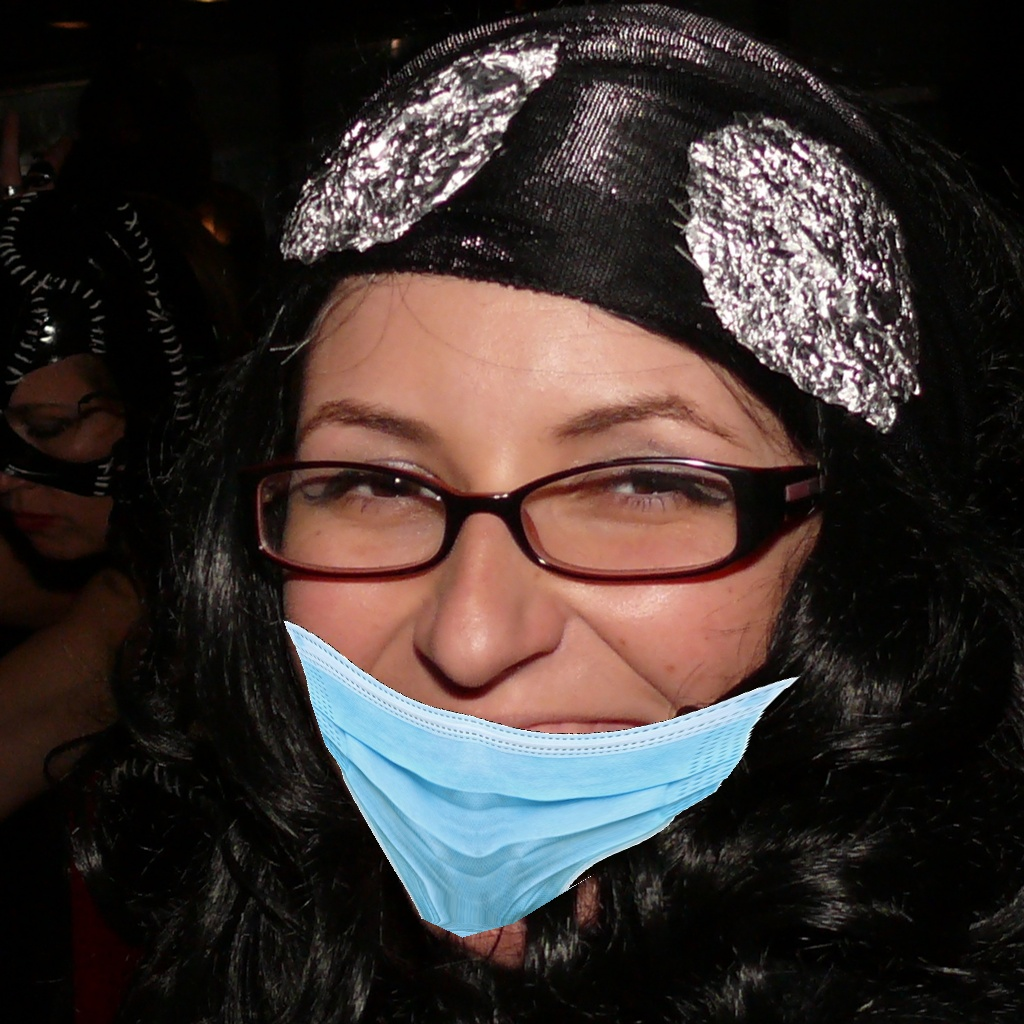Mask_Mouth_Chin: (269, 392, 831, 937)
